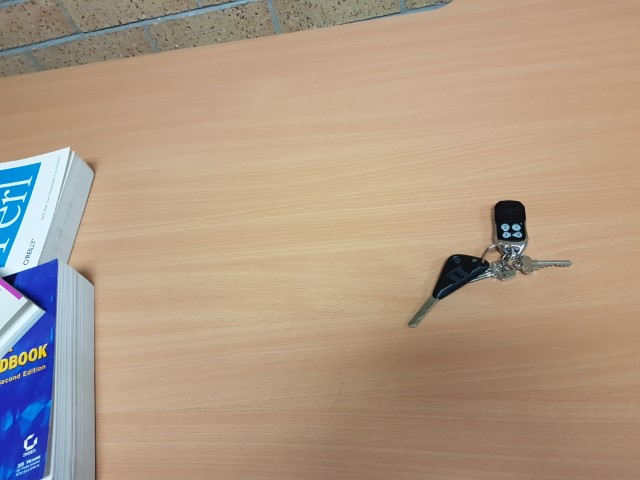key: (408, 253, 488, 329)
